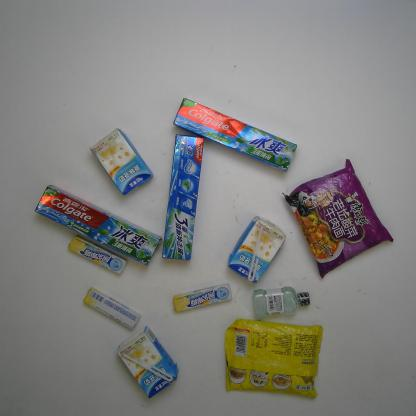Candy: (82, 285, 141, 332), (67, 233, 128, 277), (172, 281, 233, 315)
Instant Noodles: (281, 158, 395, 281), (223, 316, 324, 400)
Milk: (116, 324, 180, 400), (89, 125, 156, 197), (227, 214, 286, 285)
Personal Hygiene: (34, 184, 163, 268), (172, 96, 299, 174), (161, 133, 204, 262), (252, 284, 312, 322)
